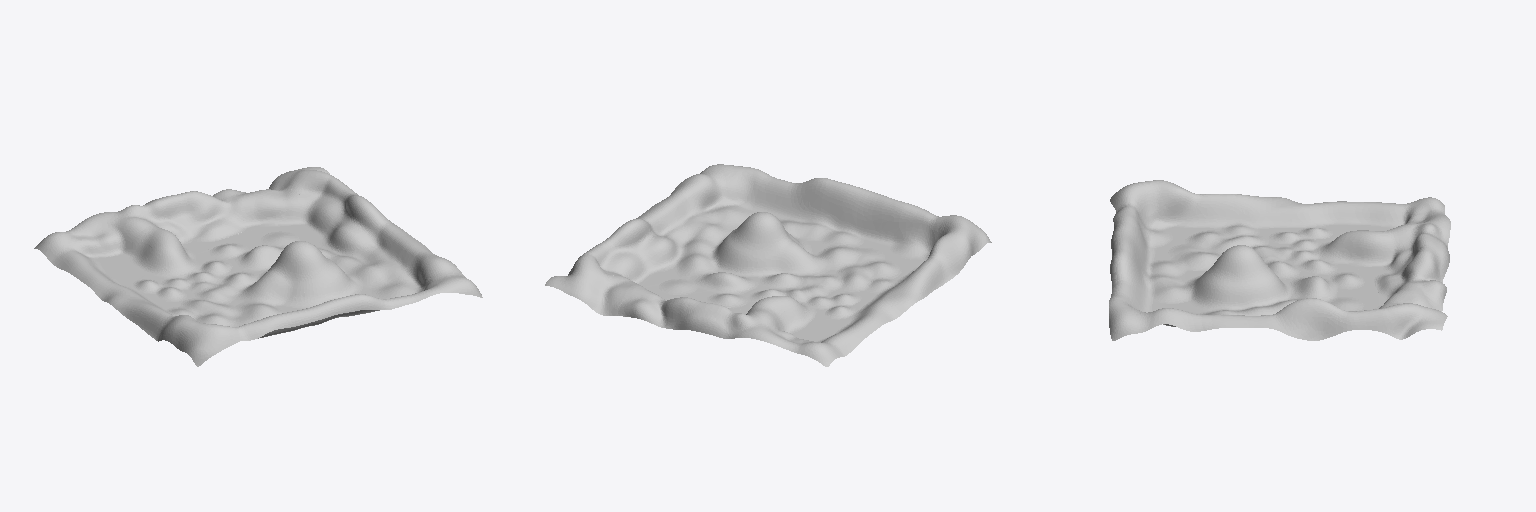
Rendered from terrain_decimated.obj.
3 views of the same model, side by side, from view 1: azimuth 30°, elevation 25°; view 2: azimuth 150°, elevation 25°; view 3: azimuth 270°, elevation 25° (orthographic).
Parts seen in each view (by area): view 1: Plane; view 2: Plane; view 3: Plane.
Boxes of the visible parts, x1,y1,x2,y2 form: Plane: [34, 167, 482, 366]; Plane: [545, 164, 991, 366]; Plane: [1109, 180, 1450, 340].
Size of the model in its own units: 1030 by 144 by 1045.